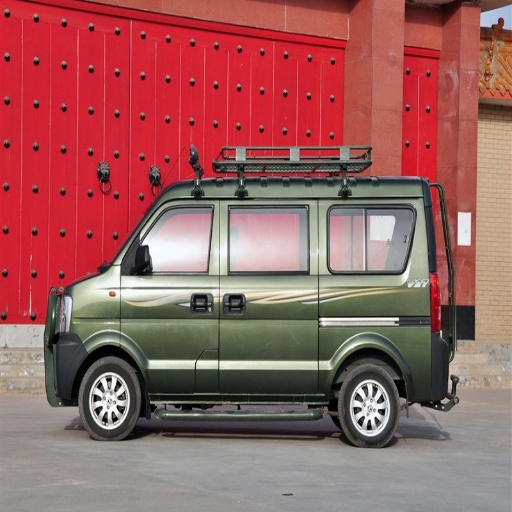back_left_door: (222, 281, 267, 321)
trunk: (326, 264, 439, 398), (331, 202, 414, 265)
